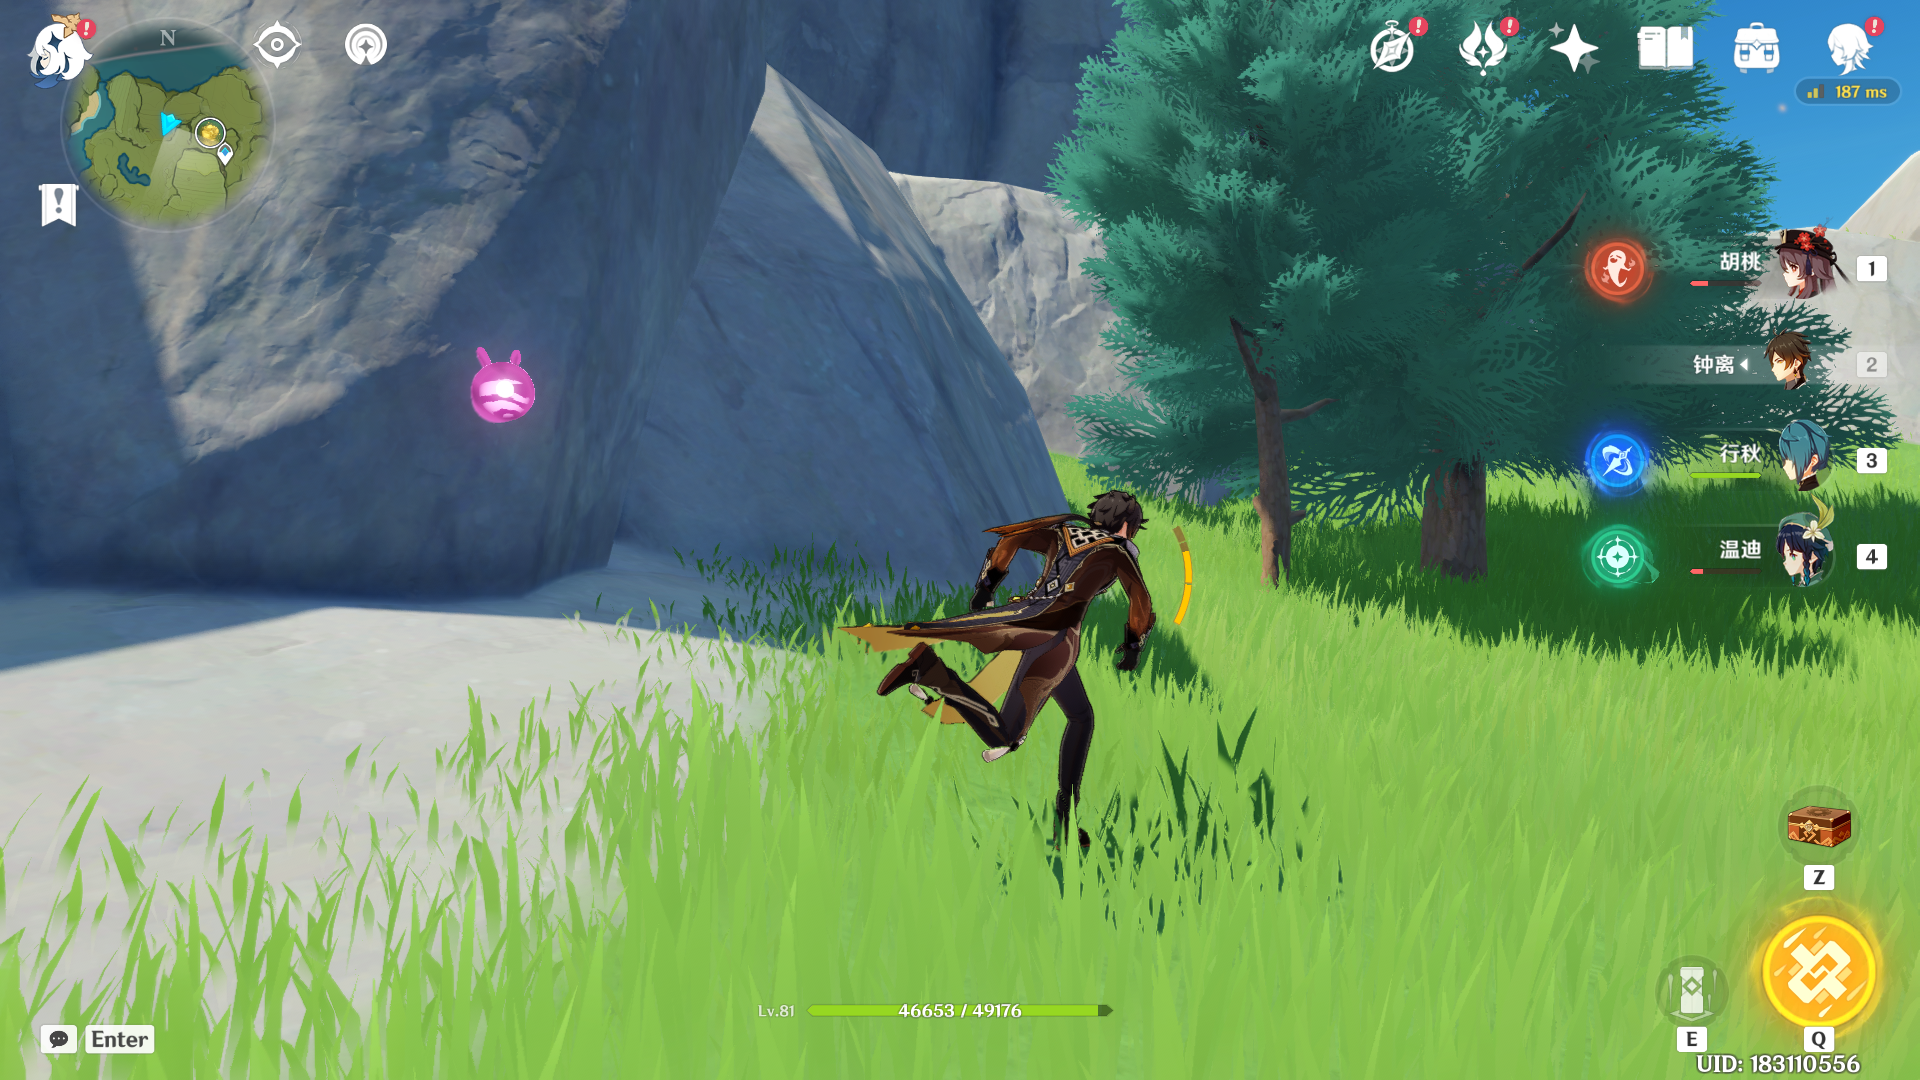character: (829, 444, 1155, 880)
